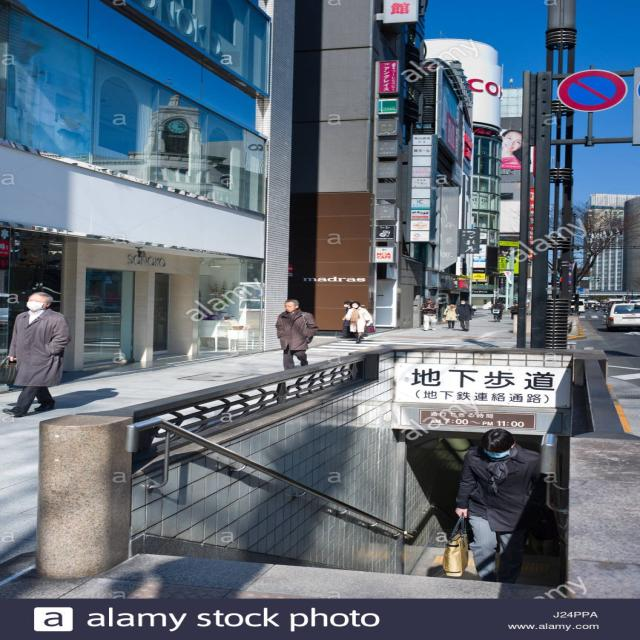body: (441, 427, 545, 584), (1, 290, 74, 418), (274, 299, 318, 371), (36, 105, 95, 158), (19, 384, 119, 413), (340, 300, 374, 344), (498, 128, 526, 170), (419, 298, 439, 331), (454, 299, 474, 331), (339, 300, 353, 338), (442, 302, 458, 328), (584, 297, 610, 312), (489, 299, 505, 320), (350, 336, 378, 343), (507, 303, 519, 319), (441, 325, 464, 332), (610, 298, 634, 304), (486, 318, 499, 324), (512, 295, 518, 303), (500, 298, 506, 304)
